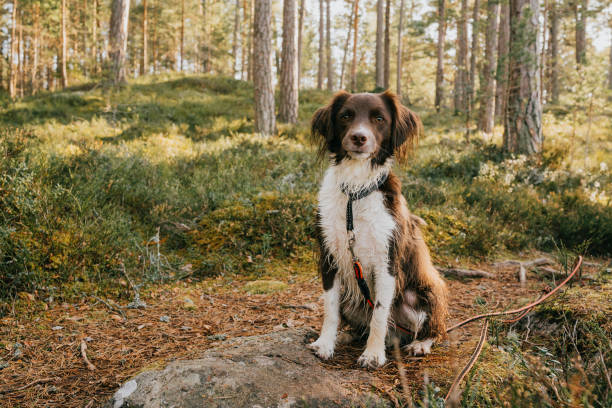dog: (219, 69, 515, 393)
